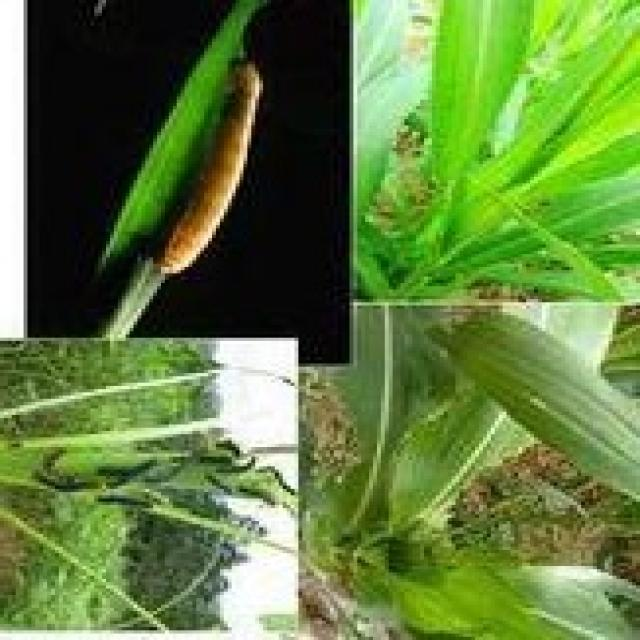army worm: (150, 54, 276, 289), (27, 421, 290, 533)
